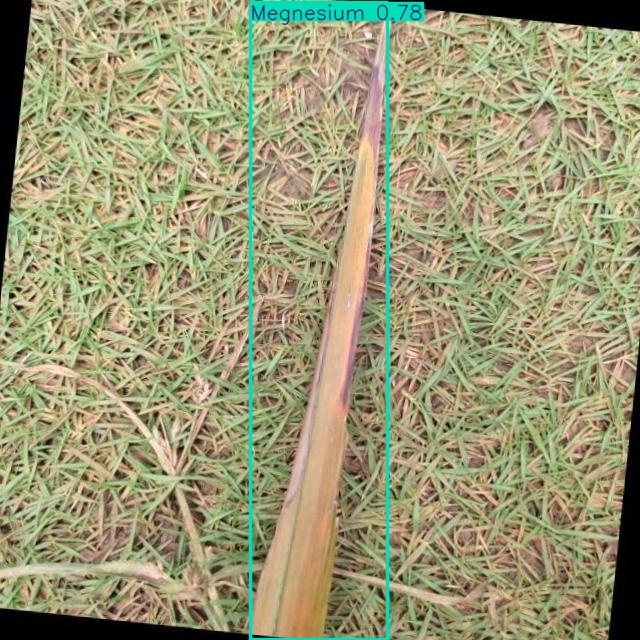Megnesium: (250, 3, 387, 639)
